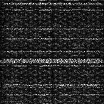lte: (1, 59, 104, 63), (1, 84, 104, 87), (1, 2, 104, 4), (1, 27, 104, 29), (1, 38, 104, 40), (1, 50, 104, 52), (1, 93, 104, 95)
